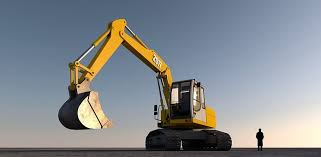excavator: (61, 16, 234, 152)
